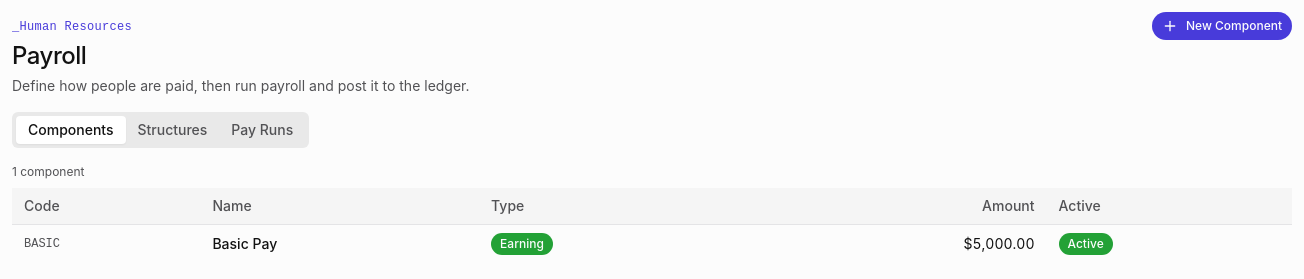
it: PayrollPage › switches to the structures tab and lists salary structures
This screenshot has width=1304, height=279.
What coordinates should you click on to do the following:
click the tab "Structures"
I would click on:
 (172, 130)
Its box is top-left (126, 116), bottom-right (219, 144).
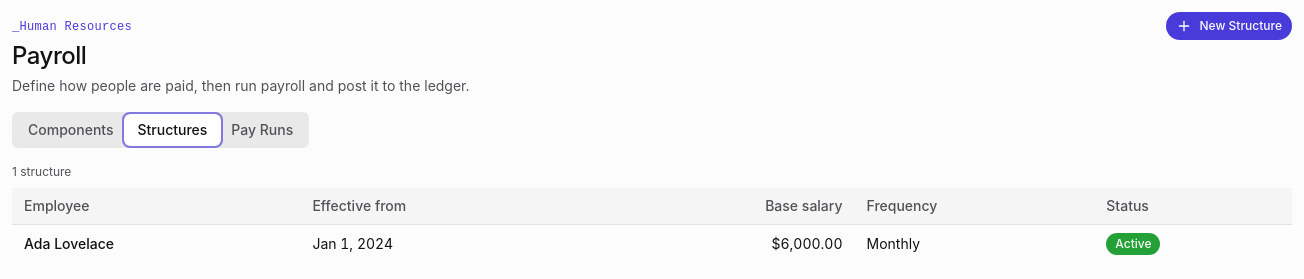
expect the text "Ada Lovelace" is shown: met, box top-left (12, 224), bottom-right (300, 262)
expect the text "Monthly" is shown: met, box top-left (854, 224), bottom-right (1094, 262)
